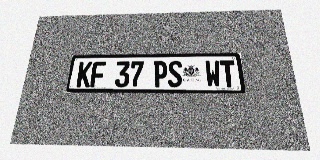3: (115, 61, 130, 87)
7: (129, 61, 144, 87)
F: (90, 61, 106, 87)
K: (76, 62, 93, 87)
P: (153, 61, 167, 87)
S: (168, 61, 182, 87)
T: (219, 60, 237, 87)
W: (205, 60, 221, 87)
